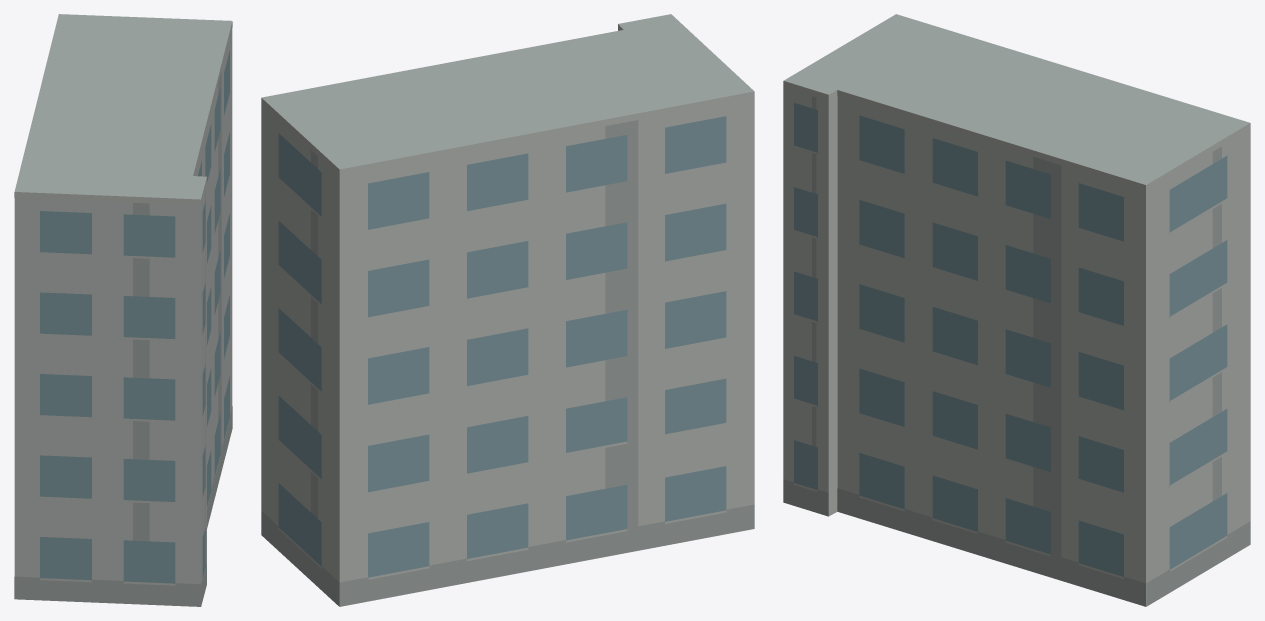
The model's file is survey-upis-32833744.glb.
3 renders of one model, left to right at view 1: azimuth 30°, elevation 25°; view 2: azimuth 150°, elevation 25°; view 3: azimuth 270°, elevation 25°, orthographic. The views are drawn at different scales.
Visible parts, largest first — view 1: survey-upis-32833744.tmp; view 2: survey-upis-32833744.tmp; view 3: survey-upis-32833744.tmp.
Boxes of the visible parts, bbox=[...] form: survey-upis-32833744.tmp: bbox=[14, 14, 232, 606]; survey-upis-32833744.tmp: bbox=[261, 14, 754, 606]; survey-upis-32833744.tmp: bbox=[783, 14, 1250, 606].
Bounding box in the file's own units: 14.02 × 16.1 × 16.17.
